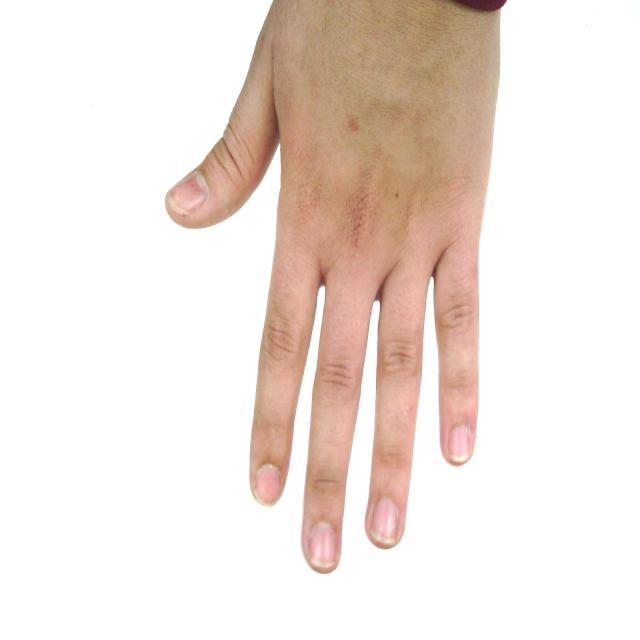Fingernail: (169, 174, 207, 214), (371, 499, 399, 545), (310, 523, 337, 567), (256, 465, 280, 504), (449, 426, 470, 460)
